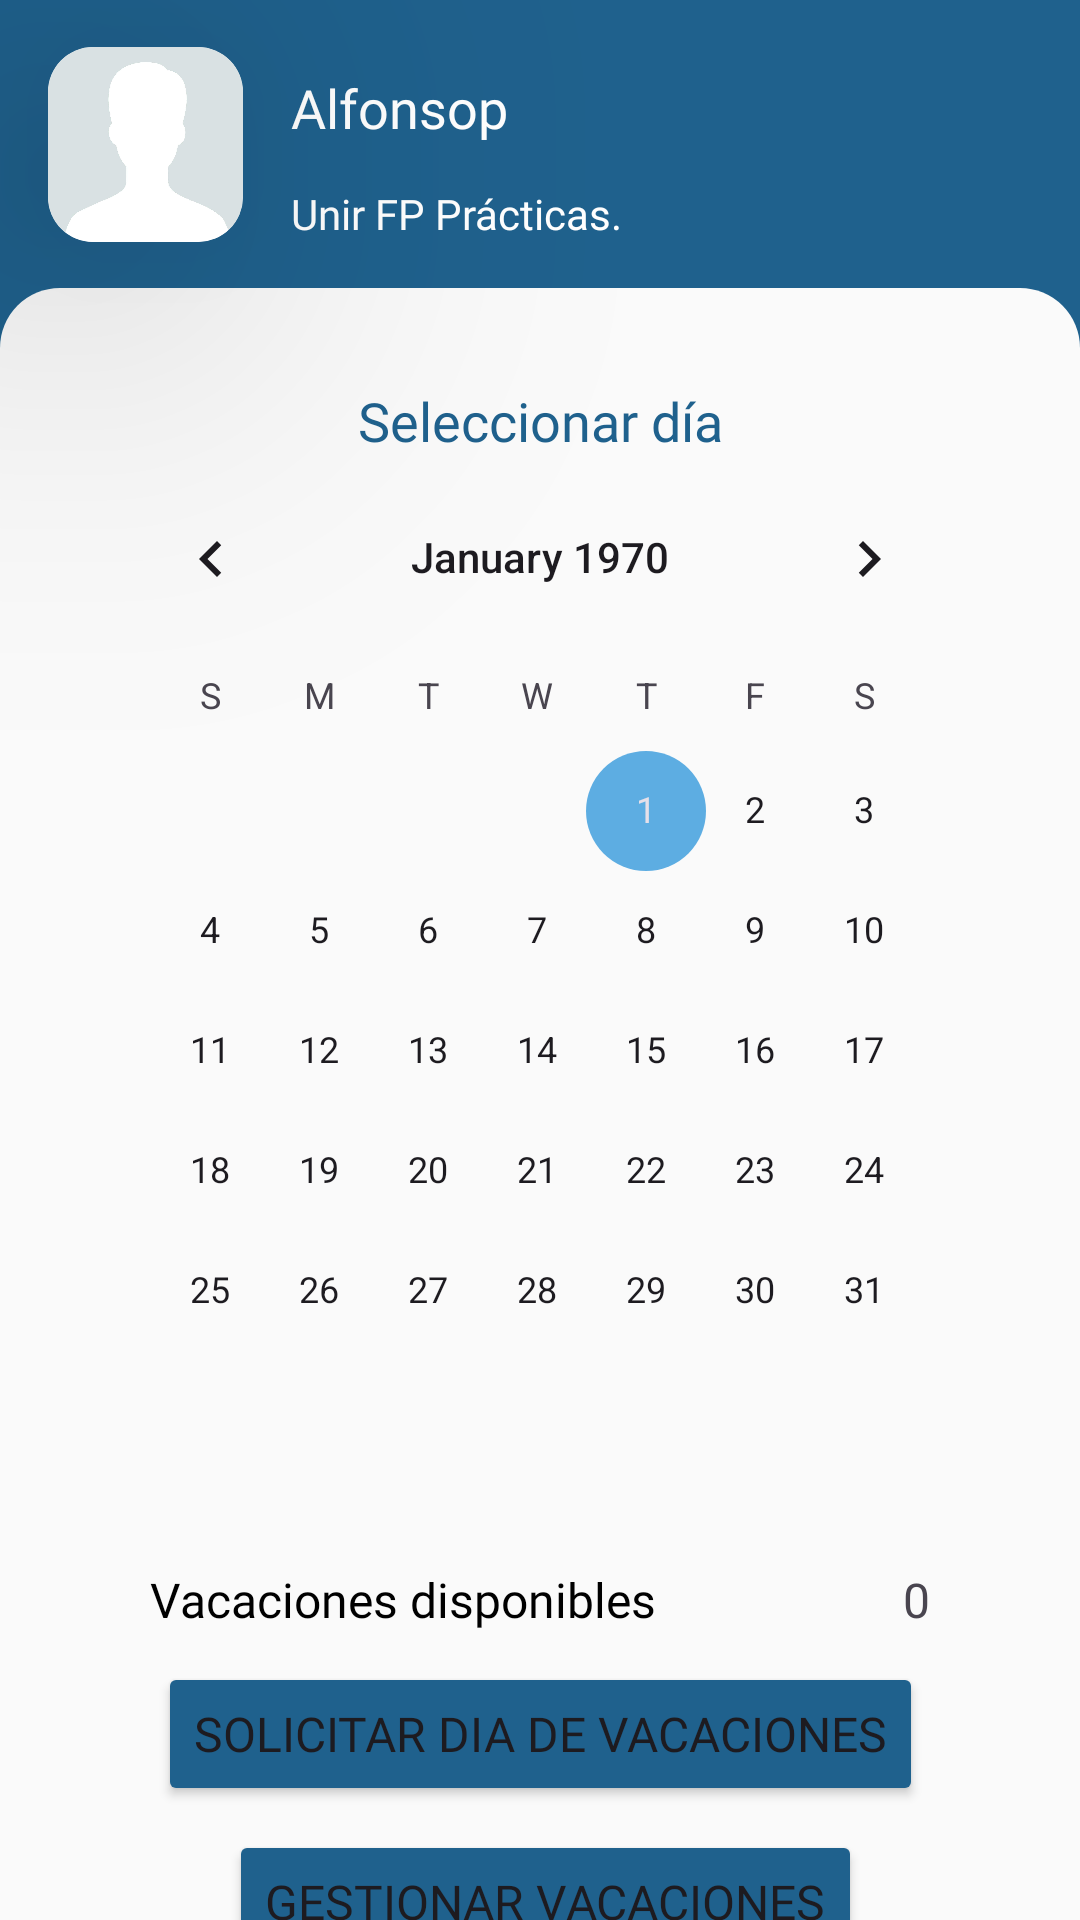

Point at icon controls on the screen. Image size 1080w x 1920h, points as (x,y).
defaultavatar: (145,144)
